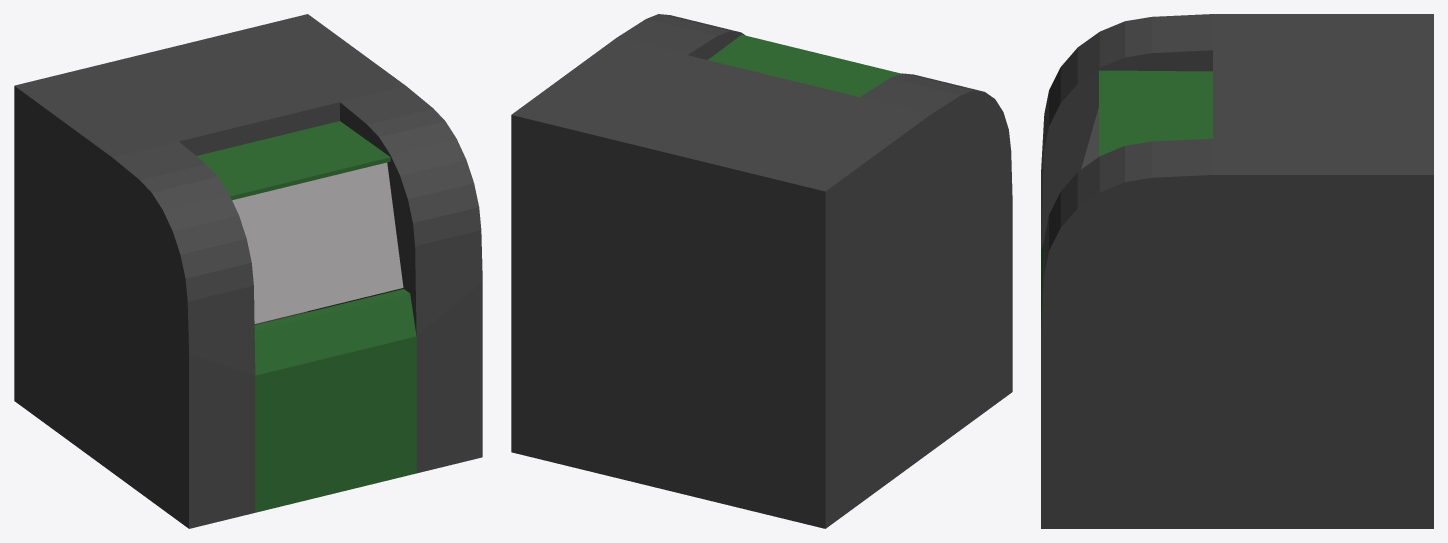
File: Trashbin big 1.fbx
The picture shows the model from 3 angles, left to right: view 1: azimuth 30°, elevation 25°; view 2: azimuth 150°, elevation 25°; view 3: azimuth 270°, elevation 25°; orthographic projection. The views are drawn at different scales.
Visible parts, largest first — view 1: Cube, Cube.003, Cube.004, Cube.001; view 2: Cube, Cube.001; view 3: Cube, Cube.001, Cube.004.
Part boxes in pixels (x1,y1,x2,y2): Cube: [14, 14, 482, 528]; Cube.003: [254, 289, 416, 512]; Cube.004: [232, 162, 403, 323]; Cube.001: [197, 121, 390, 200]; Cube: [511, 14, 1012, 528]; Cube.001: [708, 34, 900, 96]; Cube: [1041, 14, 1433, 528]; Cube.001: [1099, 70, 1212, 156]; Cube.004: [1081, 107, 1098, 169].
Size of the model in its own units: 92.79 by 95.19 by 95.73.
